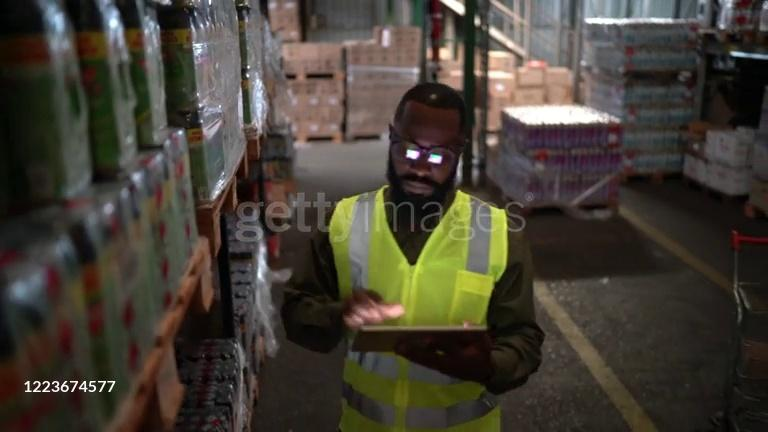person: (281, 86, 550, 431)
